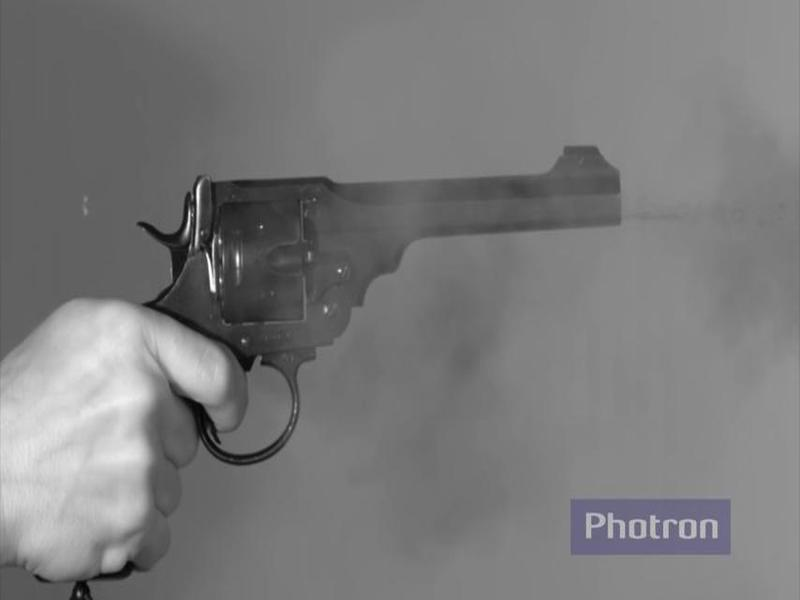Revolver: (133, 135, 637, 476)
